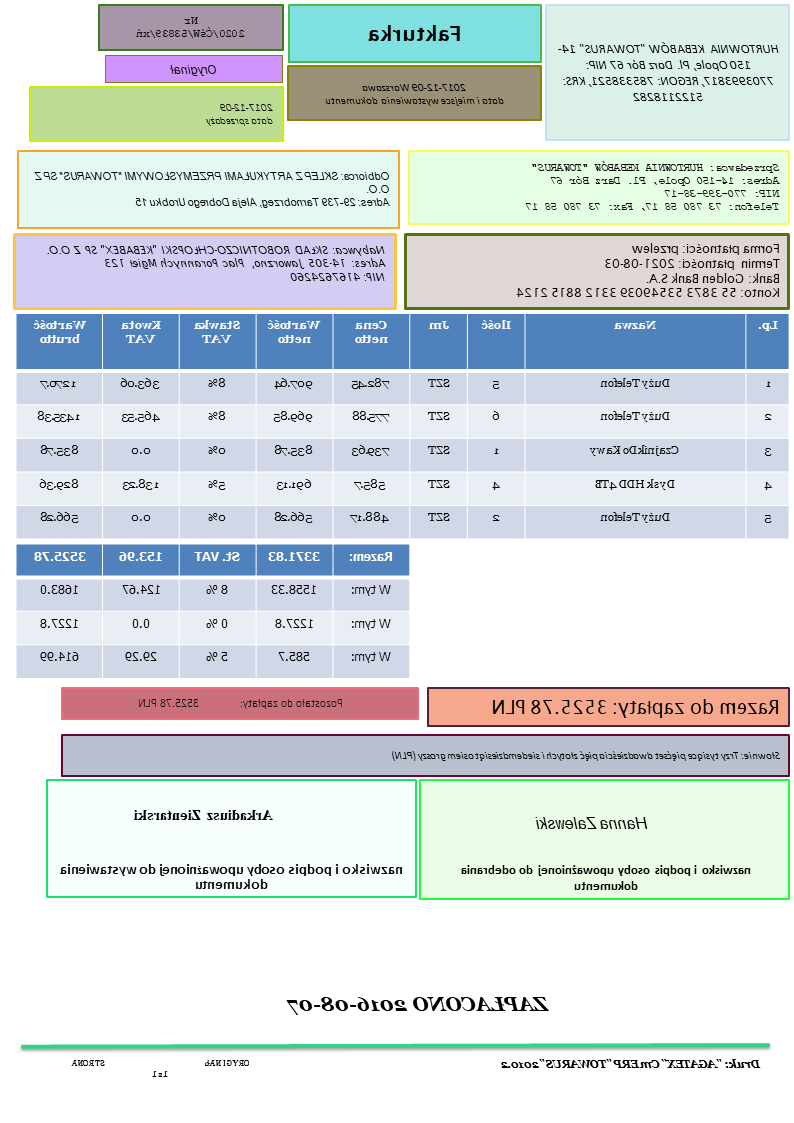Table: (14, 311, 791, 541), (15, 541, 412, 677)
TextBox: (31, 164, 395, 214), (43, 238, 391, 288), (514, 240, 785, 300), (555, 38, 782, 108), (522, 156, 785, 216), (55, 856, 407, 892), (455, 858, 756, 895), (489, 689, 786, 720), (282, 988, 552, 1020), (388, 744, 786, 765), (322, 76, 510, 109), (494, 1054, 765, 1076), (69, 1054, 253, 1083), (132, 691, 349, 713), (131, 11, 247, 42), (129, 804, 276, 828), (533, 807, 653, 836), (365, 19, 468, 45), (203, 98, 277, 132), (166, 59, 220, 78)
